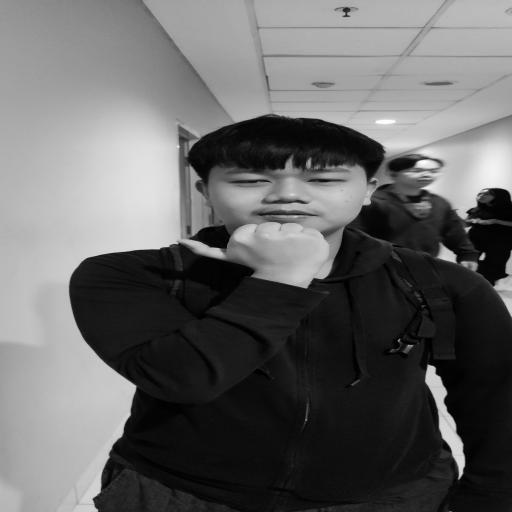back: (165, 216, 365, 294)
